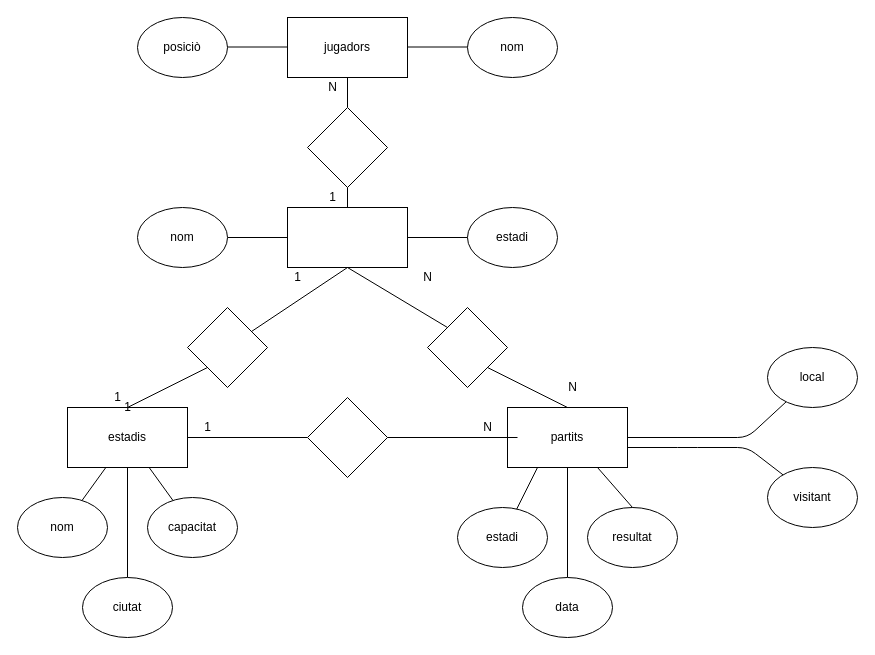
Image size: 875x655. Some labels were removed from this diagram. The shapes that lost their labels are listed below. From the top down, each one's centre as x and y in pixels, then its label:
point (347, 147): plantilla
point (347, 237): equips
point (227, 347): tenen
point (467, 347): juga
point (347, 437): on
